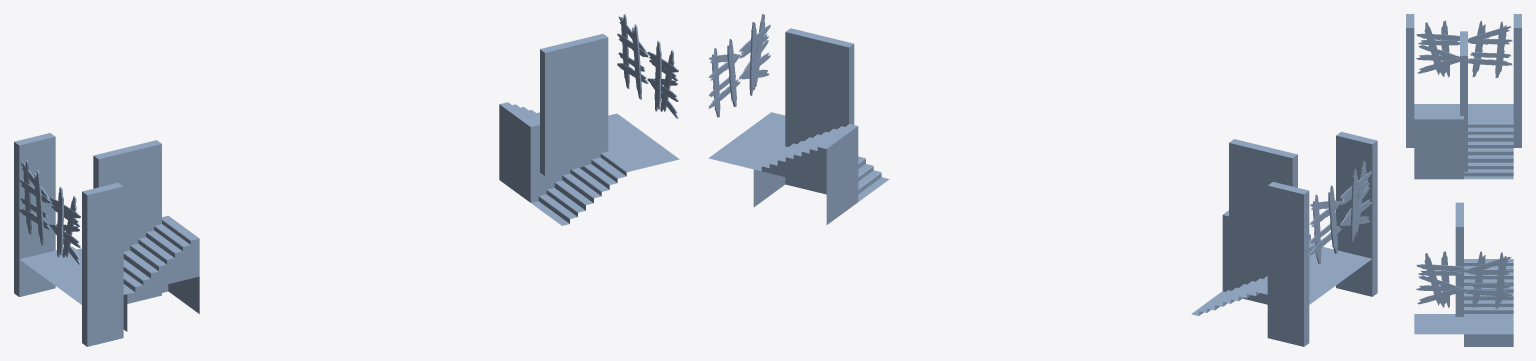
File: SM_Stairwells.fbx
3 renders of one model, left to right at view 1: azimuth 30°, elevation 25°; view 2: azimuth 150°, elevation 25°; view 3: azimuth 270°, elevation 25°, orthographic. The views are drawn at different scales.
Parts seen in each view (by area): view 1: stairHall10, walls77, stairHall9, walls58, walls75, walls57, left3, Dining_table_v01:Dining_table_v01:left1, left2, Dining_table_v01:Dining_table_v01:left2; view 2: stairHall10, walls77, walls57, walls75, walls58, stairHall9, left2, Dining_table_v01:Dining_table_v01:left2, Dining_table_v01:Dining_table_v01:left1, left3; view 3: stairHall9, stairHall10, left3, Dining_table_v01:Dining_table_v01:left1, left2, Dining_table_v01:Dining_table_v01:left2, walls57, walls58, walls77, walls75.
Boxes of the visible parts, bbox=[...] form: stairHall10: bbox=[499, 102, 679, 225]; walls77: bbox=[540, 34, 608, 175]; stairHall9: bbox=[20, 215, 199, 331]; walls58: bbox=[82, 182, 123, 346]; walls75: bbox=[93, 140, 161, 303]; walls57: bbox=[14, 133, 55, 296]; left3: bbox=[647, 40, 678, 118]; Dining_table_v01:Dining_table_v01:left1: bbox=[49, 186, 80, 264]; left2: bbox=[617, 14, 648, 99]; Dining_table_v01:Dining_table_v01:left2: bbox=[19, 160, 50, 245]; stairHall10: bbox=[709, 112, 889, 224]; walls77: bbox=[785, 28, 854, 146]; walls57: bbox=[1267, 182, 1309, 346]; walls75: bbox=[1229, 139, 1297, 304]; walls58: bbox=[1336, 131, 1377, 296]; stairHall9: bbox=[1191, 210, 1371, 315]; left2: bbox=[708, 39, 740, 117]; Dining_table_v01:Dining_table_v01:left2: bbox=[1309, 185, 1341, 263]; Dining_table_v01:Dining_table_v01:left1: bbox=[1340, 160, 1371, 242]; left3: bbox=[739, 14, 770, 95]; stairHall9: bbox=[1414, 104, 1513, 179]; stairHall10: bbox=[1414, 259, 1513, 346]; left3: bbox=[1416, 251, 1464, 307]; Dining_table_v01:Dining_table_v01:left1: bbox=[1416, 20, 1459, 77]; left2: bbox=[1464, 251, 1512, 308]; Dining_table_v01:Dining_table_v01:left2: bbox=[1468, 21, 1512, 77]; walls57: bbox=[1513, 14, 1521, 147]; walls58: bbox=[1406, 14, 1414, 147]; walls77: bbox=[1455, 202, 1463, 316]; walls75: bbox=[1460, 31, 1467, 171].
Size of the model in its own units: 3320 by 800 by 700.
